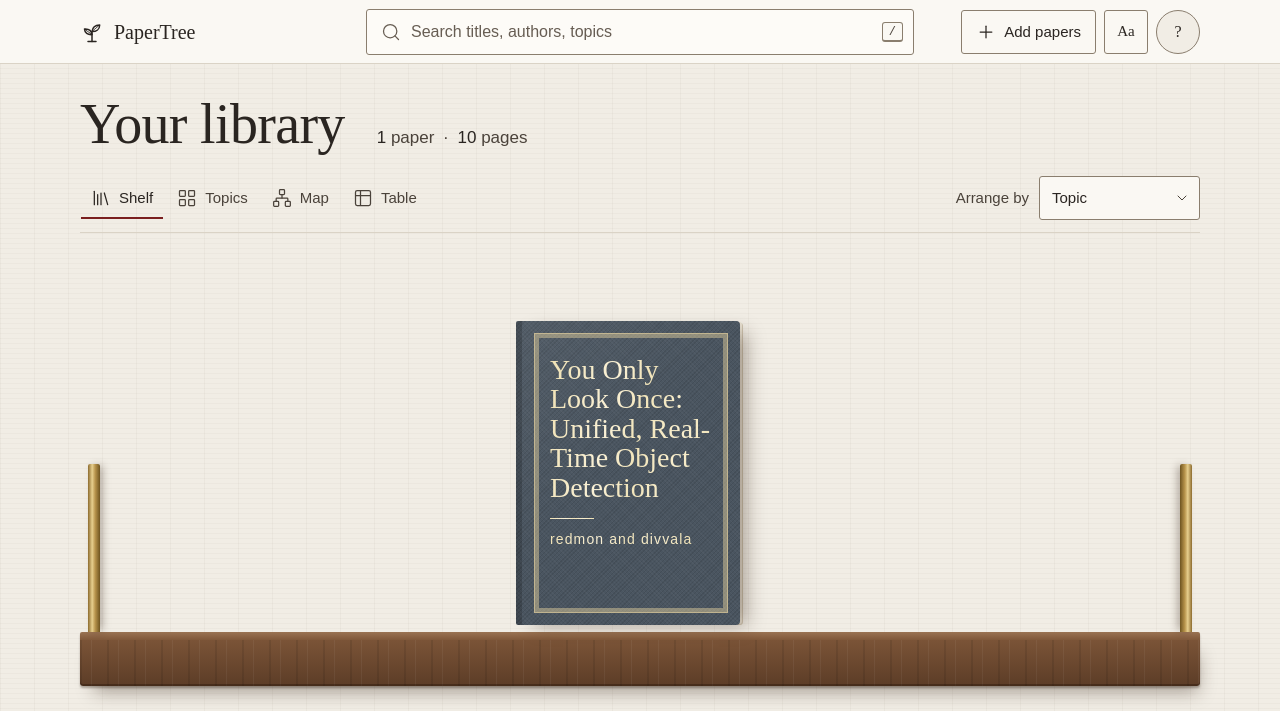
library rows from the API (S1 shape) › shows the server title and page count, never the ppr_ id, and a ready paper is not Queued
Step 1. Click the button "You Only Look Once" → [628, 473], box x1=516 y1=321 x2=740 y2=625
(page scrolled)
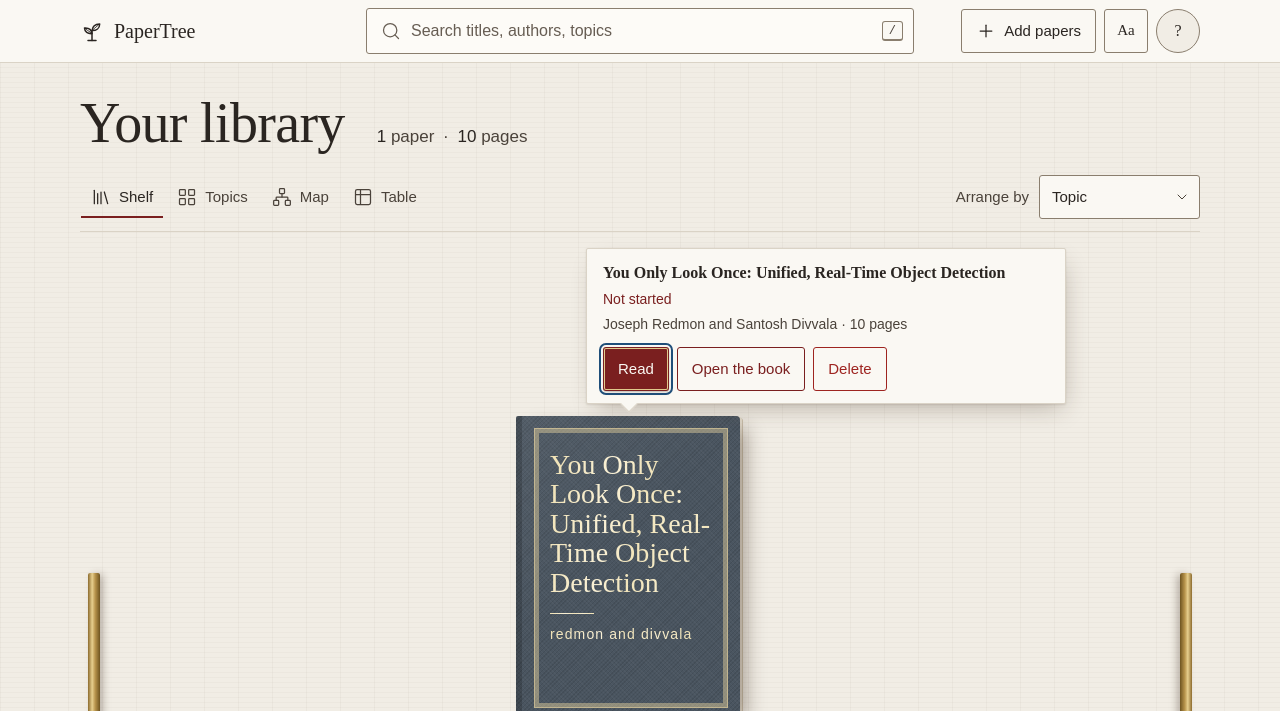
Expected: the text "10 pages" is shown, x1=603 y1=316 x2=907 y2=332
Expected: the text "Not started" is shown, x1=603 y1=289 x2=672 y2=310
